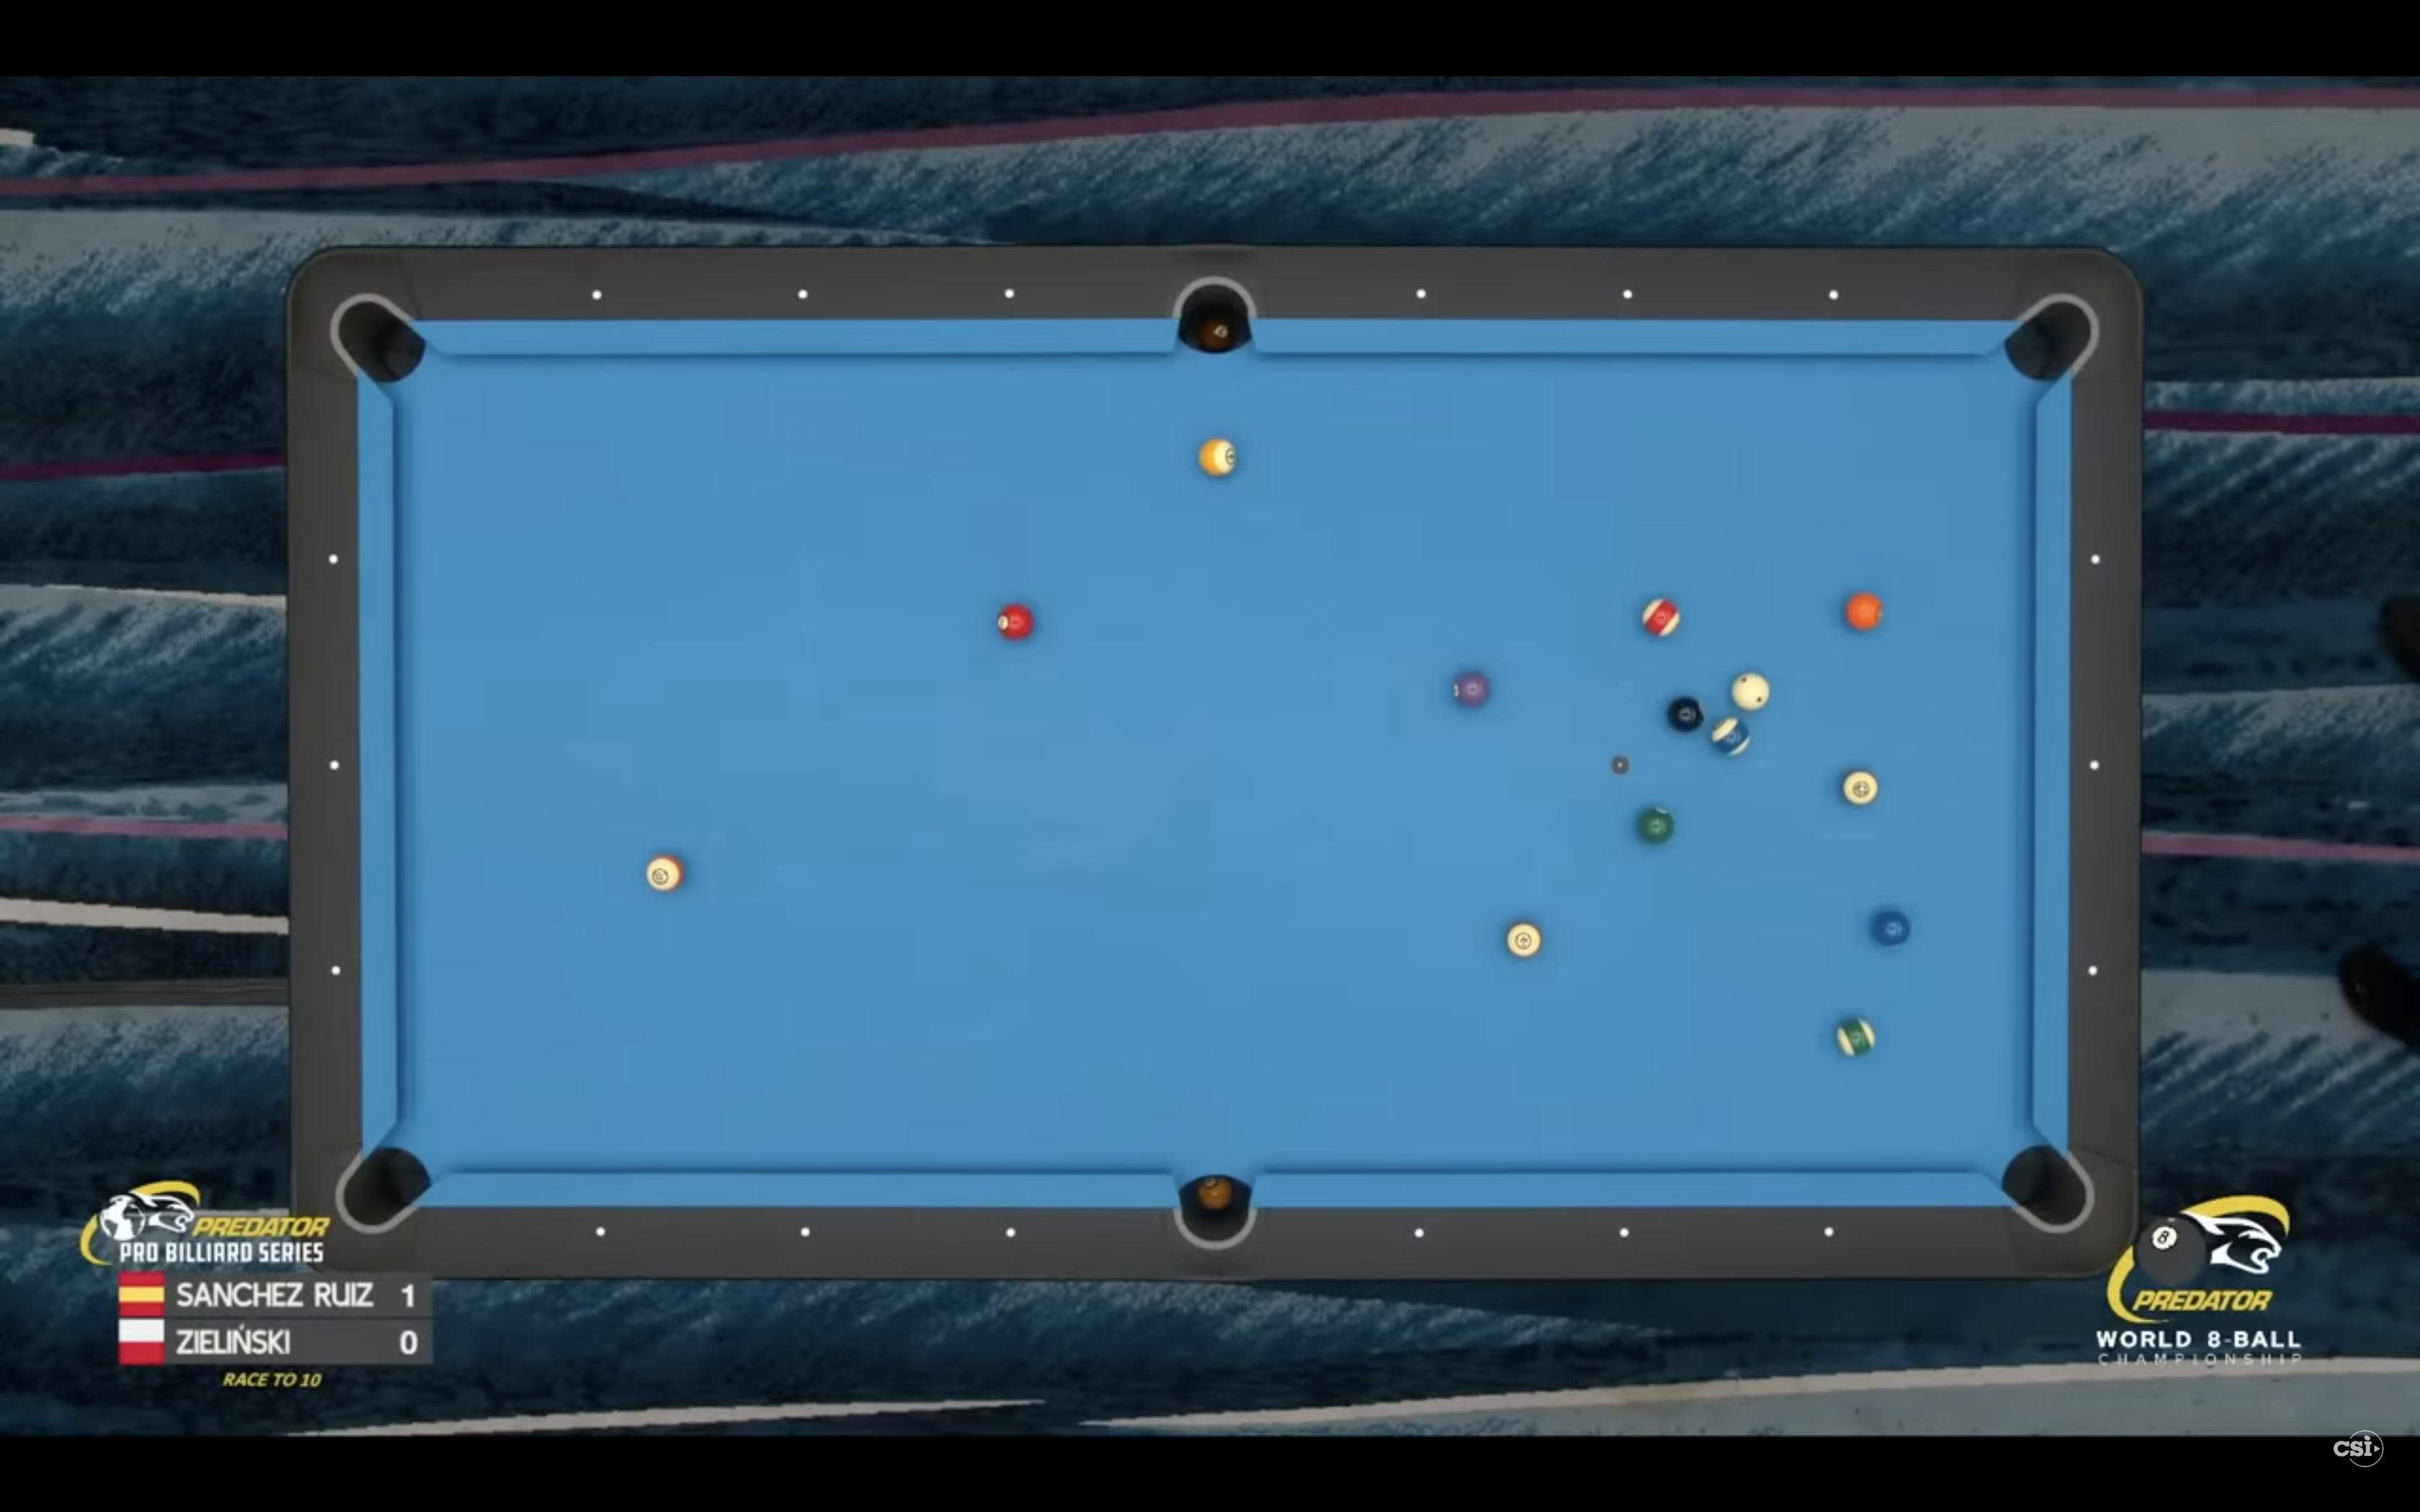Black: (1667, 695, 1704, 733)
Cue: (1728, 671, 1770, 711)
Dot: (2089, 552, 2103, 566), (1828, 287, 1842, 301), (796, 287, 810, 301), (2089, 758, 2101, 772), (1620, 289, 1634, 301), (591, 289, 605, 301), (328, 552, 340, 566), (328, 759, 341, 772), (594, 1226, 606, 1239), (1413, 1226, 1425, 1239), (1619, 1226, 1631, 1239), (1822, 1226, 1835, 1239), (2087, 965, 2099, 977), (1415, 287, 1427, 300), (1004, 287, 1016, 300), (329, 965, 343, 975), (1005, 1226, 1016, 1239), (800, 1226, 810, 1237)
Solid: (1843, 592, 1883, 632), (1636, 805, 1674, 847), (997, 601, 1033, 643), (1871, 909, 1911, 946), (1453, 671, 1490, 705)
Striped: (1641, 597, 1683, 639), (1709, 714, 1751, 756), (1838, 766, 1880, 808), (645, 852, 685, 895), (1504, 918, 1544, 962), (1835, 1017, 1876, 1057), (1197, 437, 1237, 477)
